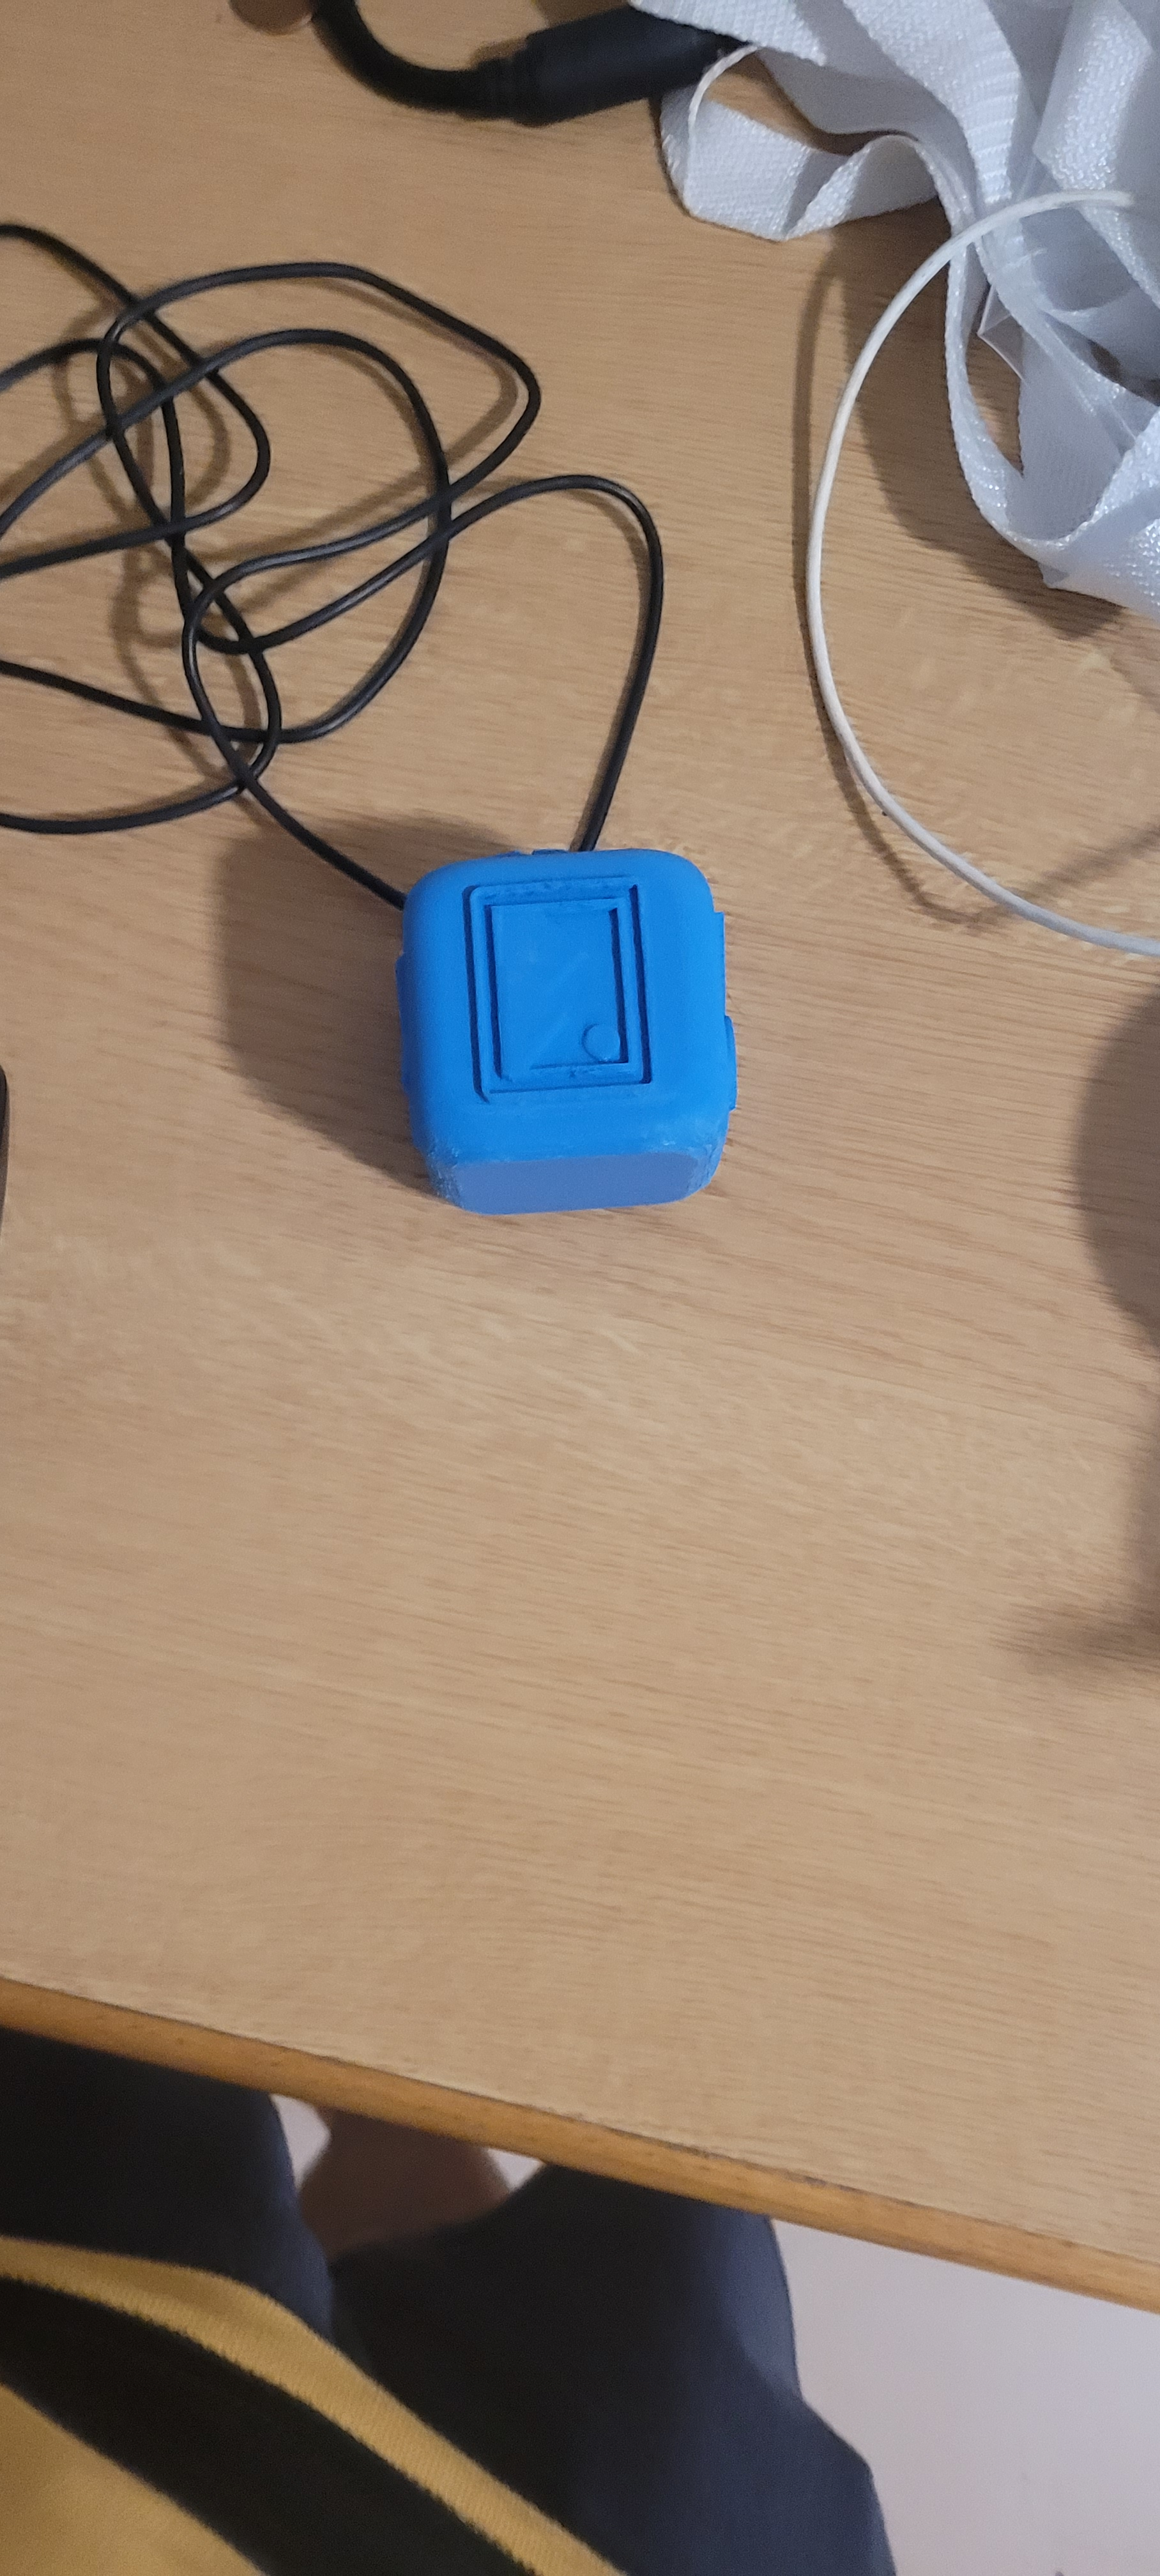Story: (447, 848, 685, 1106)
